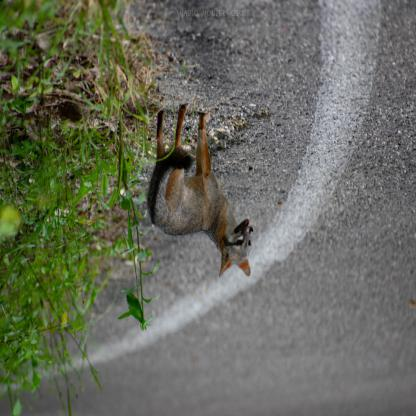zorro: (143, 101, 258, 281)
